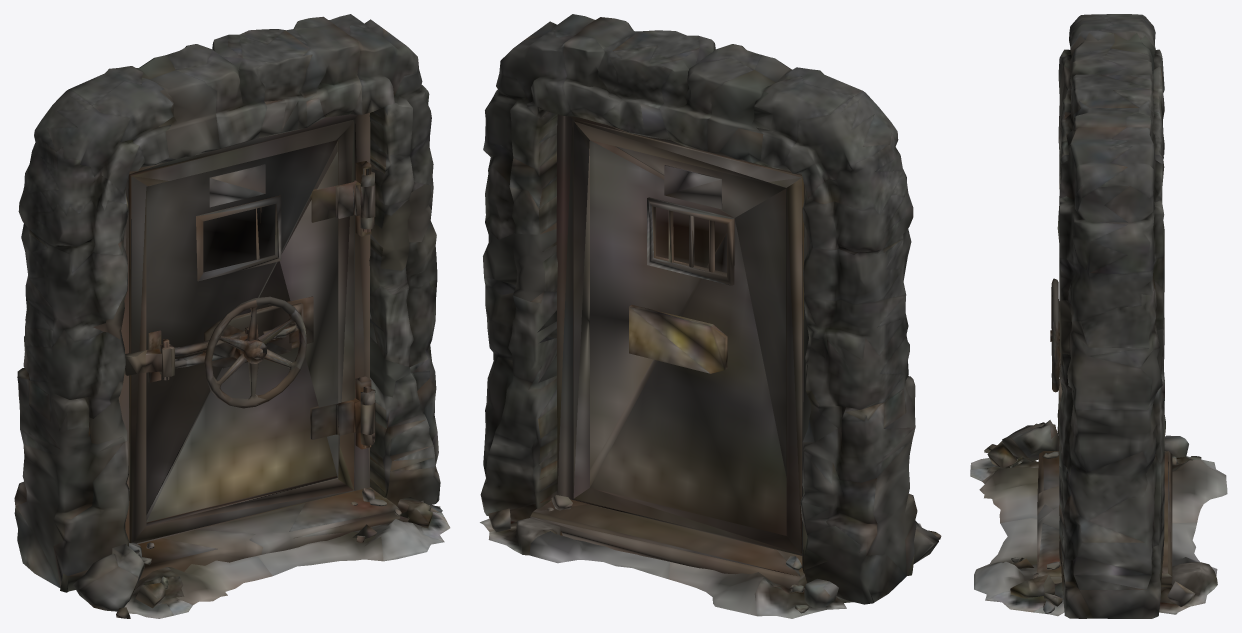
File: shelter-door.glb
3 views of the same model, side by side, from view 1: azimuth 30°, elevation 25°; view 2: azimuth 150°, elevation 25°; view 3: azimuth 270°, elevation 25° (orthographic). The views are drawn at different scales.
Visible parts, largest first — view 1: geometry_0; view 2: geometry_0; view 3: geometry_0.
Part boxes in pixels (x1,y1,x2,y2): geometry_0: [14, 14, 450, 618]; geometry_0: [480, 14, 941, 618]; geometry_0: [970, 14, 1227, 618].
Bounding box in the file's own units: 2.1 × 2.5 × 1.27.
1 material, 1 textured.
